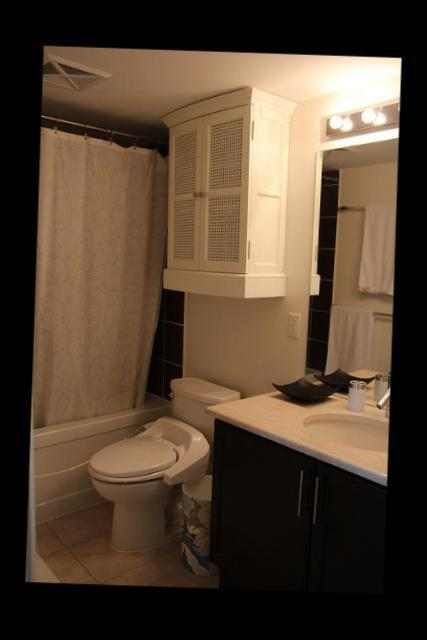Bote de Basura: (180, 468, 241, 578)
Lavamanos: (301, 371, 390, 458)
Sanitario: (80, 364, 244, 556)
